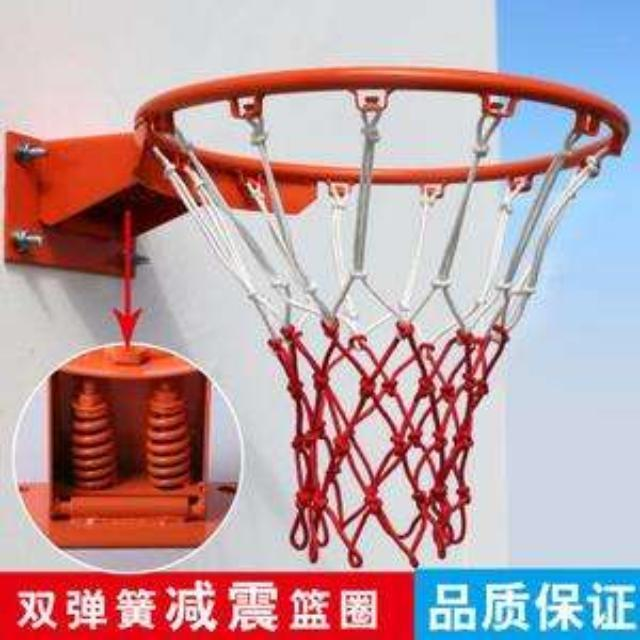rim: (135, 66, 631, 570)
